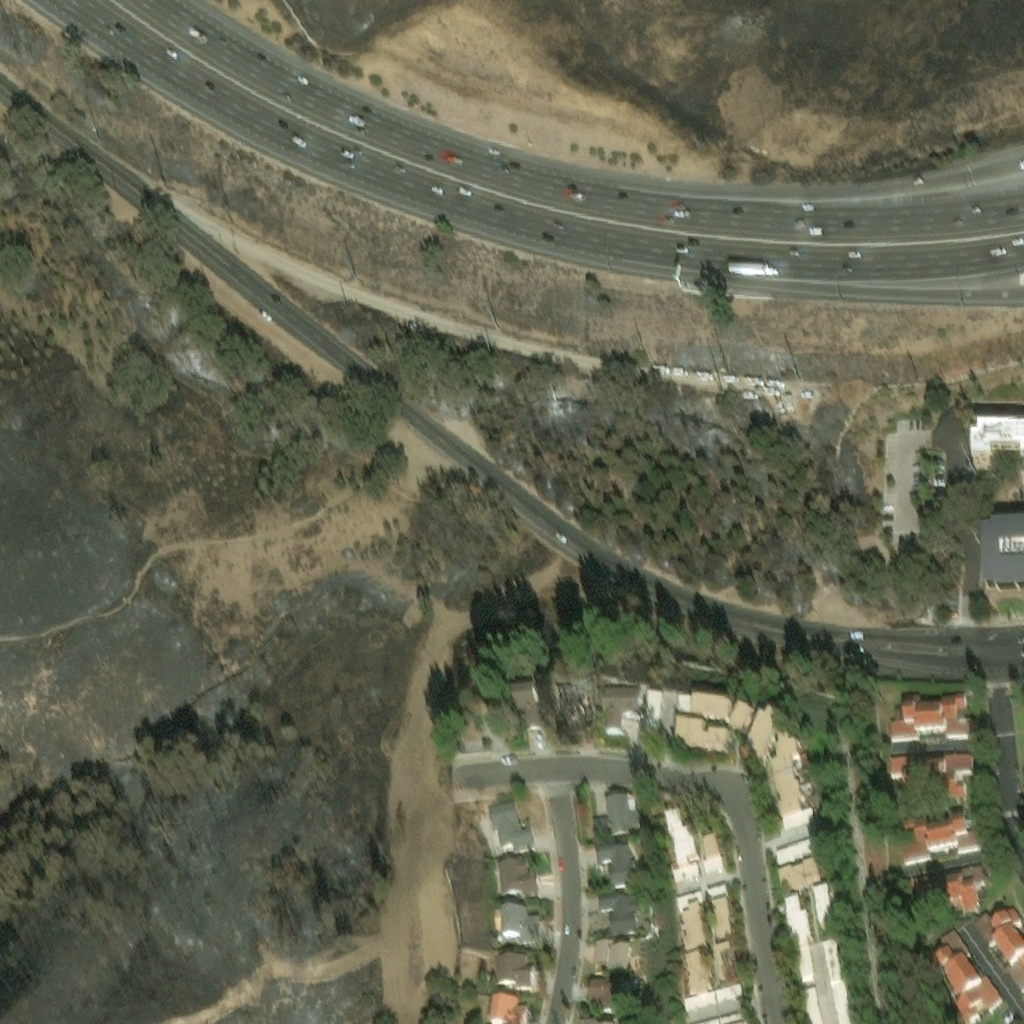0 no-damage: (932, 946, 1002, 1023), (908, 865, 988, 922), (888, 754, 974, 805), (889, 691, 976, 738), (975, 908, 1023, 991), (802, 951, 856, 1023), (899, 809, 976, 854), (784, 905, 819, 994), (982, 520, 1023, 590), (682, 944, 734, 996), (663, 804, 698, 874), (971, 422, 1023, 463), (488, 798, 532, 845), (774, 728, 813, 781), (596, 881, 638, 930), (591, 787, 639, 829), (677, 898, 714, 952), (685, 991, 747, 1023), (748, 716, 785, 768), (594, 836, 636, 880), (594, 939, 641, 978), (779, 865, 827, 902), (676, 722, 734, 752), (558, 694, 600, 732), (815, 893, 848, 941), (606, 692, 643, 734), (496, 850, 536, 888), (588, 986, 628, 1023), (500, 901, 540, 937), (514, 697, 550, 735), (495, 951, 532, 986), (487, 995, 527, 1023), (694, 701, 736, 727), (776, 845, 823, 867), (709, 896, 733, 939), (660, 695, 680, 741), (645, 696, 664, 742), (700, 832, 724, 868), (776, 814, 816, 835), (731, 709, 759, 738), (674, 884, 701, 904), (705, 879, 728, 898), (678, 700, 694, 717)
